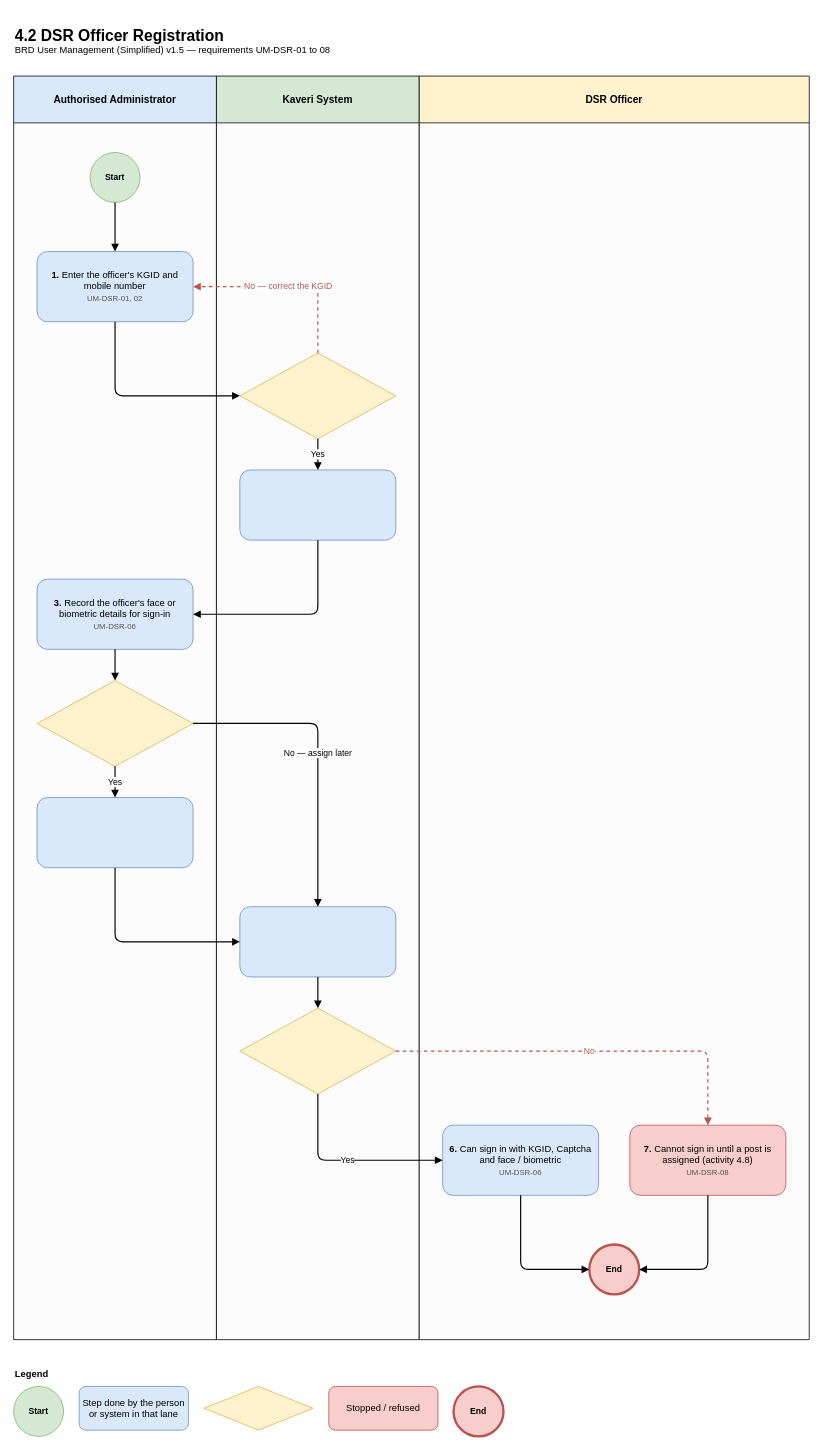
Image size: 823x1451. Some labels were removed from this diagram. Here are the shapes that lost their labels. From the top down, the centre of each, then its label:
At (317,395): "Is the KGID unique? UM-DSR-02".
At (317,504): "2. Verify the mobile number by OTP UM-DSR-02".
At (114,723): "Give a post now? UM-DSR-03".
At (114,832): "4. Select one or more posts (only posts with a vacancy are shown) UM-DSR-03, 04".
At (317,941): "5. Create the officer (KGID is the Username) and send an SMS UM-DSR-02, 07".
At (317,1050): "Post given?".
At (258,1408): "Check / choice".
